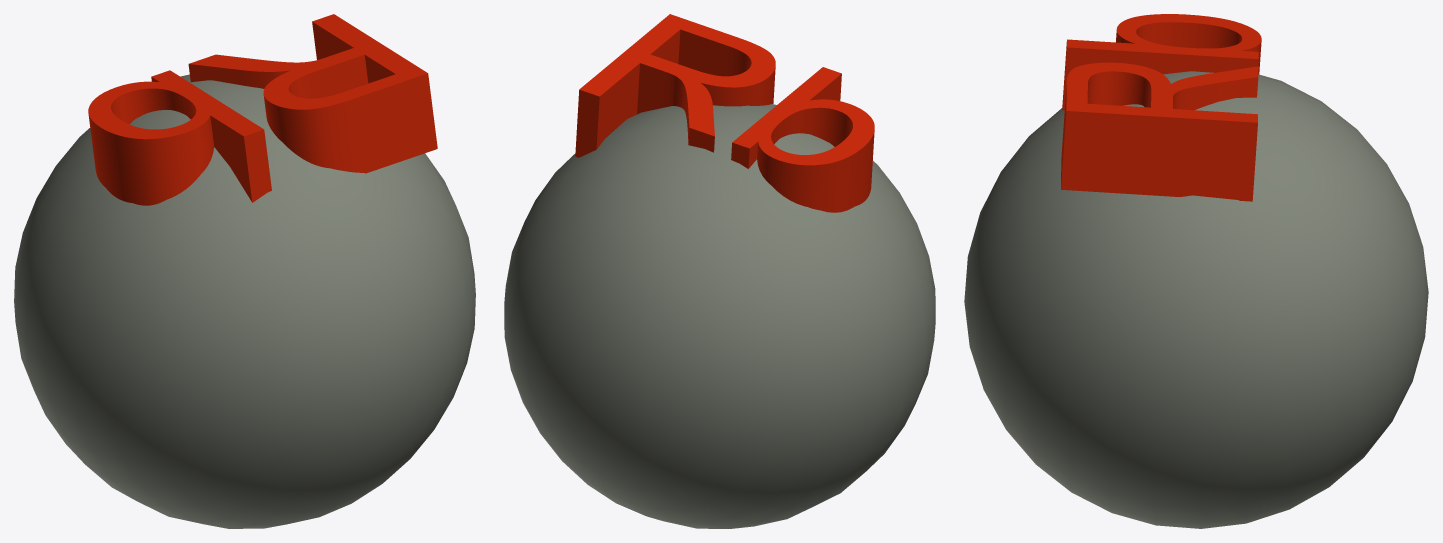
The picture shows the model from 3 angles, left to right: view 1: azimuth 30°, elevation 25°; view 2: azimuth 150°, elevation 25°; view 3: azimuth 270°, elevation 25°; orthographic projection. The views are drawn at different scales.
Parts seen in each view (by area): view 1: Rb; view 2: Rb; view 3: Rb.
Part boxes in pixels (x1,y1,x2,y2): Rb: [14, 14, 475, 528]; Rb: [504, 14, 935, 528]; Rb: [964, 14, 1428, 528].
Size of the model in its own units: 38.64 by 41.77 by 38.74.
